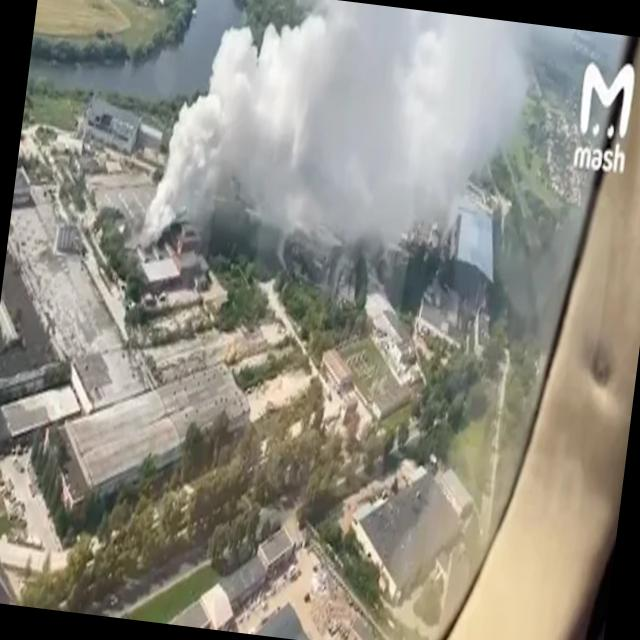Smoke: (137, 0, 530, 286)
